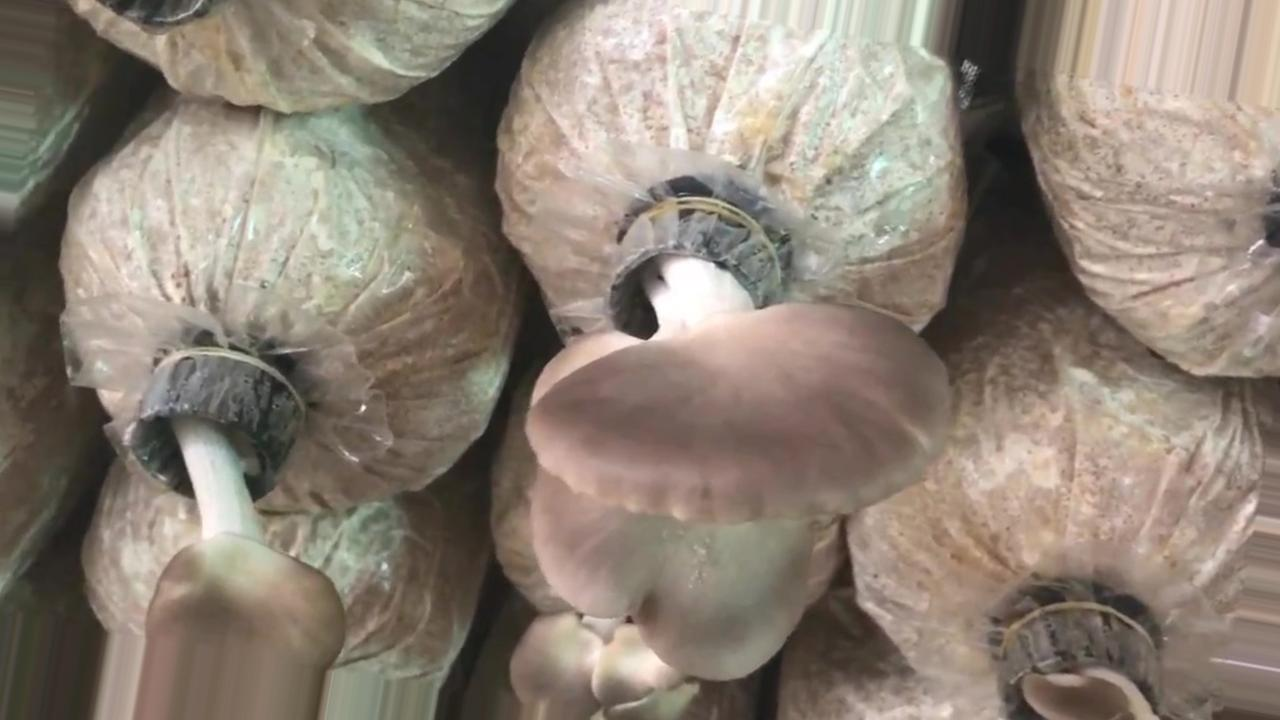nam: (511, 213, 955, 720), (137, 355, 346, 720), (1006, 598, 1154, 720)
